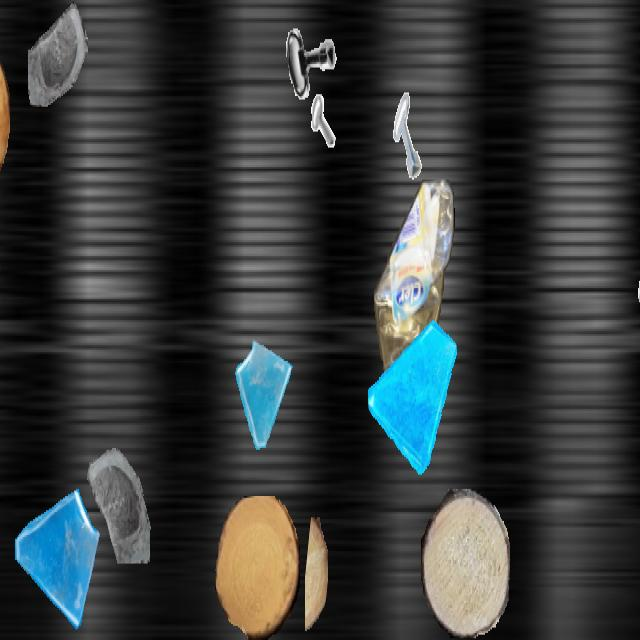glass: (11, 478, 101, 638), (368, 314, 458, 474), (77, 426, 153, 562), (232, 338, 296, 452), (28, 2, 88, 108)
metal: (279, 2, 341, 112), (385, 90, 435, 180), (287, 91, 335, 176), (629, 180, 640, 276), (636, 263, 640, 338)
plastic: (374, 180, 456, 439)
wood: (421, 489, 509, 638), (215, 496, 299, 638), (305, 518, 327, 638), (0, 43, 9, 206)
